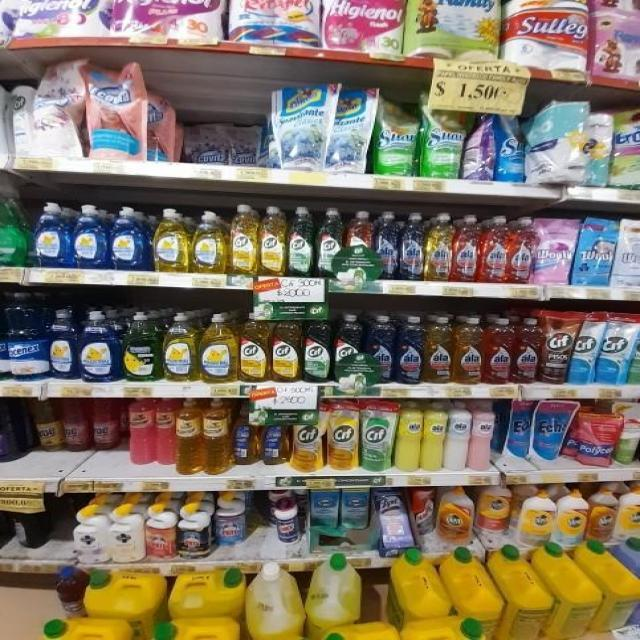ala_conc_amarillo: (454, 316, 482, 385), (425, 315, 452, 385), (425, 212, 452, 282)
ala_conc_azul: (366, 315, 396, 385), (396, 315, 424, 386), (400, 212, 424, 281), (376, 211, 398, 281)
ala_conc_rojo: (483, 317, 512, 385), (481, 215, 509, 283), (453, 214, 480, 283), (514, 317, 541, 384), (509, 217, 534, 284)
ala_crem_amarillo: (396, 401, 422, 471), (422, 401, 445, 472)
ala_crem_blanco: (446, 401, 470, 472)
ala_crem_rosado: (470, 400, 496, 471)
cif_conc_bot_amarilla: (239, 309, 270, 383), (228, 203, 258, 276), (272, 308, 300, 383), (260, 205, 286, 277)
cif_conc_botella_roja: (346, 210, 374, 281)
cif_conc_botella_verde: (334, 313, 364, 385), (304, 310, 332, 383), (316, 207, 344, 278), (288, 207, 315, 277)
cif_conc_sachet_amarillo: (291, 404, 324, 472), (326, 402, 358, 471)
cif_conc_sachet_verde: (361, 401, 394, 472)
magistral_con_amarillo: (199, 312, 237, 384), (163, 311, 197, 383), (153, 207, 190, 273), (192, 210, 227, 274)
magistral_con_azul: (80, 310, 120, 383), (31, 201, 71, 268), (110, 206, 150, 271), (72, 204, 108, 269), (48, 308, 78, 380)
magistral_con_verde: (123, 311, 161, 383)
